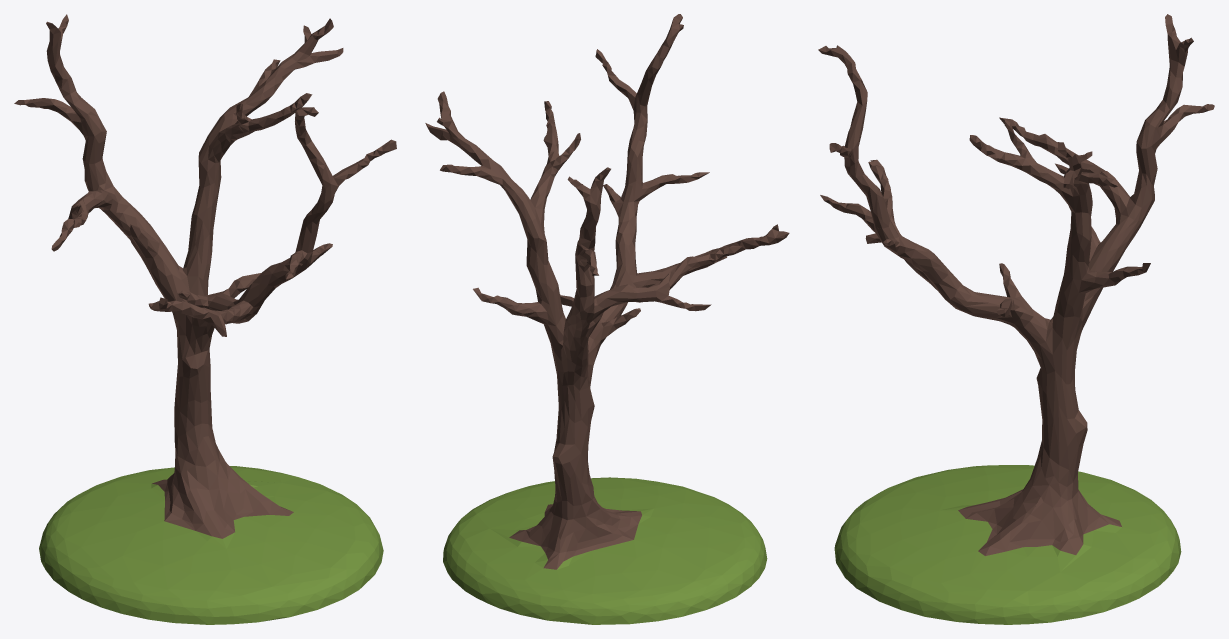
Rendered from maple_tree.fbx.
The picture shows the model from 3 angles, left to right: view 1: azimuth 30°, elevation 25°; view 2: azimuth 150°, elevation 25°; view 3: azimuth 270°, elevation 25°; orthographic projection. The views are drawn at different scales.
Parts seen in each view (by area): view 1: 15258_JewelryTree-Maple_v1; view 2: 15258_JewelryTree-Maple_v1; view 3: 15258_JewelryTree-Maple_v1.
Part boxes in pixels (<box>): 15258_JewelryTree-Maple_v1: <box>14,14,396,624</box>; 15258_JewelryTree-Maple_v1: <box>425,14,789,624</box>; 15258_JewelryTree-Maple_v1: <box>818,14,1214,624</box>.
Size of the model in its own units: 943 by 1479 by 1037.
